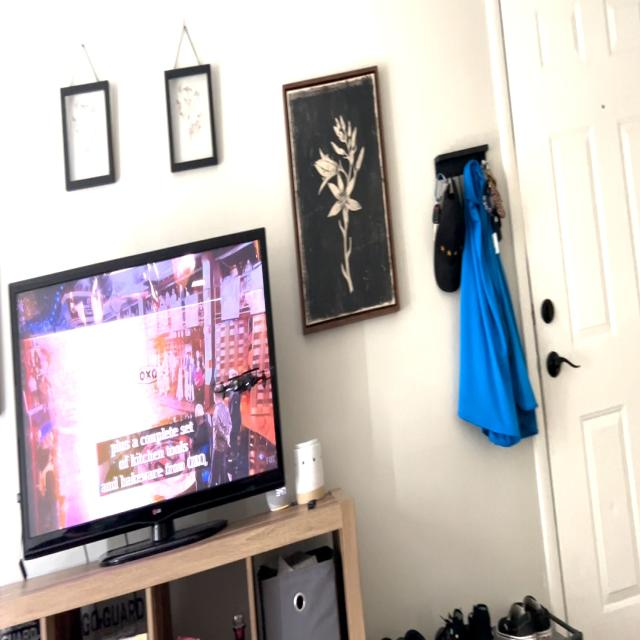drone: (203, 346, 286, 416)
